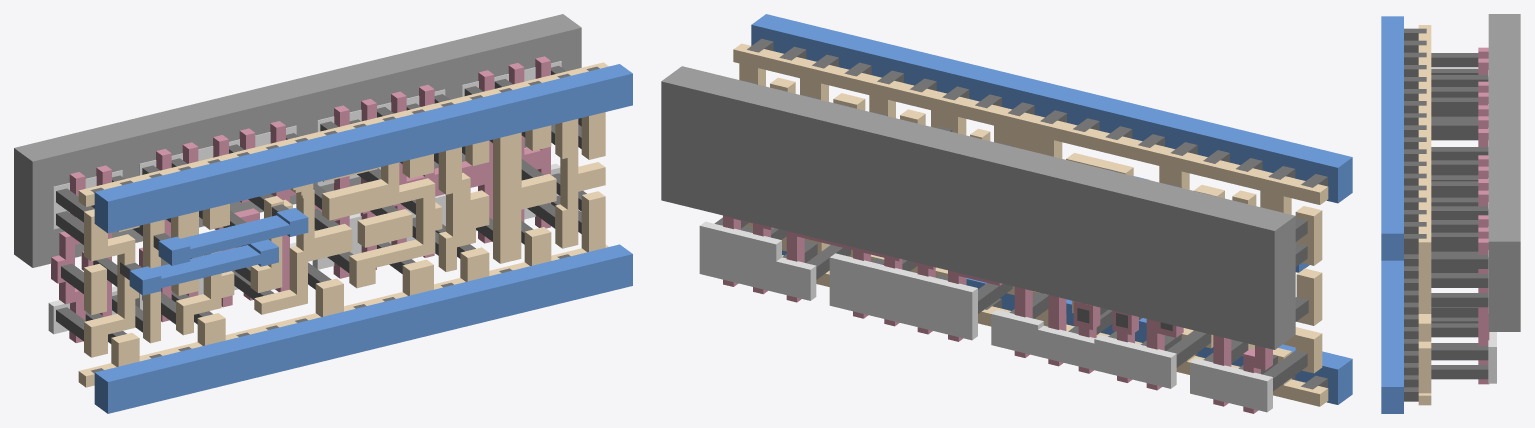
Rendered from sky130_fd_sc_hd__dlrbp_2.gds.gltf.
3 renders of one model, left to right at view 1: azimuth 30°, elevation 25°; view 2: azimuth 150°, elevation 25°; view 3: azimuth 270°, elevation 25°, orthographic. The views are drawn at different scales.
Visible parts, largest first — view 1: sky130_fd_sc_hd__dlrbp_2_met1, sky130_fd_sc_hd__dlrbp_2_li1, sky130_fd_sc_hd__dlrbp_2_nwell, sky130_fd_sc_hd__dlrbp_2_poly, sky130_fd_sc_hd__dlrbp_2_licon, sky130_fd_sc_hd__dlrbp_2_diff, sky130_fd_sc_hd__dlrbp_2_mcon; view 2: sky130_fd_sc_hd__dlrbp_2_nwell, sky130_fd_sc_hd__dlrbp_2_li1, sky130_fd_sc_hd__dlrbp_2_diff, sky130_fd_sc_hd__dlrbp_2_met1, sky130_fd_sc_hd__dlrbp_2_poly, sky130_fd_sc_hd__dlrbp_2_licon, sky130_fd_sc_hd__dlrbp_2_mcon; view 3: sky130_fd_sc_hd__dlrbp_2_licon, sky130_fd_sc_hd__dlrbp_2_nwell, sky130_fd_sc_hd__dlrbp_2_met1, sky130_fd_sc_hd__dlrbp_2_mcon, sky130_fd_sc_hd__dlrbp_2_li1, sky130_fd_sc_hd__dlrbp_2_poly, sky130_fd_sc_hd__dlrbp_2_diff.
Boxes of the visible parts, bbox=[...] form: sky130_fd_sc_hd__dlrbp_2_met1: bbox=[94, 64, 632, 413]; sky130_fd_sc_hd__dlrbp_2_li1: bbox=[78, 62, 608, 387]; sky130_fd_sc_hd__dlrbp_2_nwell: bbox=[14, 14, 581, 267]; sky130_fd_sc_hd__dlrbp_2_poly: bbox=[51, 56, 550, 343]; sky130_fd_sc_hd__dlrbp_2_licon: bbox=[56, 66, 586, 343]; sky130_fd_sc_hd__dlrbp_2_diff: bbox=[48, 61, 561, 334]; sky130_fd_sc_hd__dlrbp_2_mcon: bbox=[90, 66, 599, 373]; sky130_fd_sc_hd__dlrbp_2_nwell: bbox=[661, 66, 1295, 349]; sky130_fd_sc_hd__dlrbp_2_li1: bbox=[733, 43, 1328, 406]; sky130_fd_sc_hd__dlrbp_2_diff: bbox=[699, 221, 1272, 412]; sky130_fd_sc_hd__dlrbp_2_met1: bbox=[751, 14, 1352, 404]; sky130_fd_sc_hd__dlrbp_2_poly: bbox=[723, 215, 1272, 413]; sky130_fd_sc_hd__dlrbp_2_licon: bbox=[714, 80, 1308, 391]; sky130_fd_sc_hd__dlrbp_2_mcon: bbox=[747, 38, 1327, 389]; sky130_fd_sc_hd__dlrbp_2_licon: bbox=[1431, 53, 1488, 379]; sky130_fd_sc_hd__dlrbp_2_nwell: bbox=[1488, 14, 1520, 331]; sky130_fd_sc_hd__dlrbp_2_met1: bbox=[1381, 16, 1403, 413]; sky130_fd_sc_hd__dlrbp_2_mcon: bbox=[1404, 28, 1426, 401]; sky130_fd_sc_hd__dlrbp_2_li1: bbox=[1418, 25, 1431, 405]; sky130_fd_sc_hd__dlrbp_2_poly: bbox=[1478, 47, 1489, 384]; sky130_fd_sc_hd__dlrbp_2_diff: bbox=[1488, 70, 1496, 383].
Bounding box in the file's own units: 8.66 × 3.2 × 2.24.
